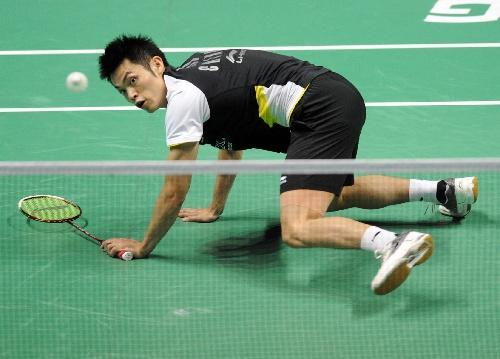bending: (92, 41, 468, 286)
